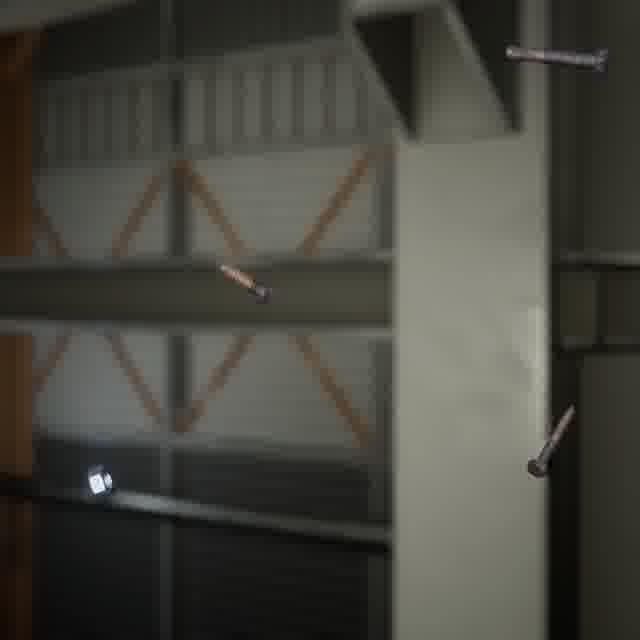bolt: (522, 401, 579, 482), (501, 41, 614, 80), (215, 257, 279, 310)
nut: (84, 460, 119, 504)
